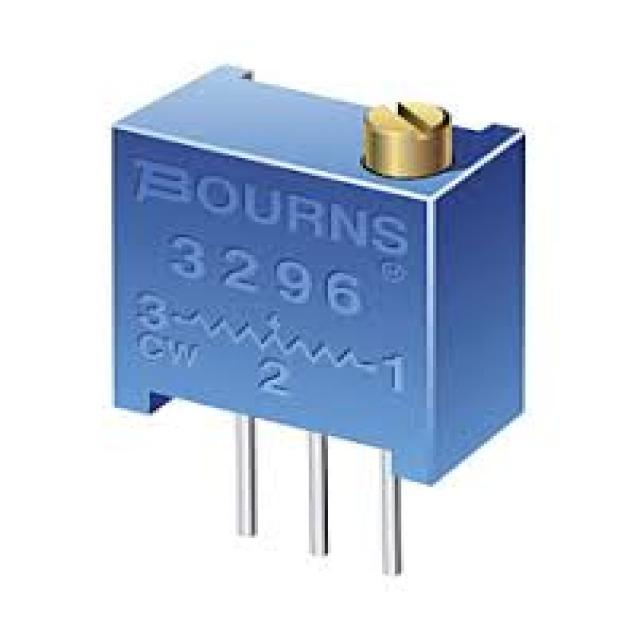potentiometer POT1: (88, 61, 558, 510)
